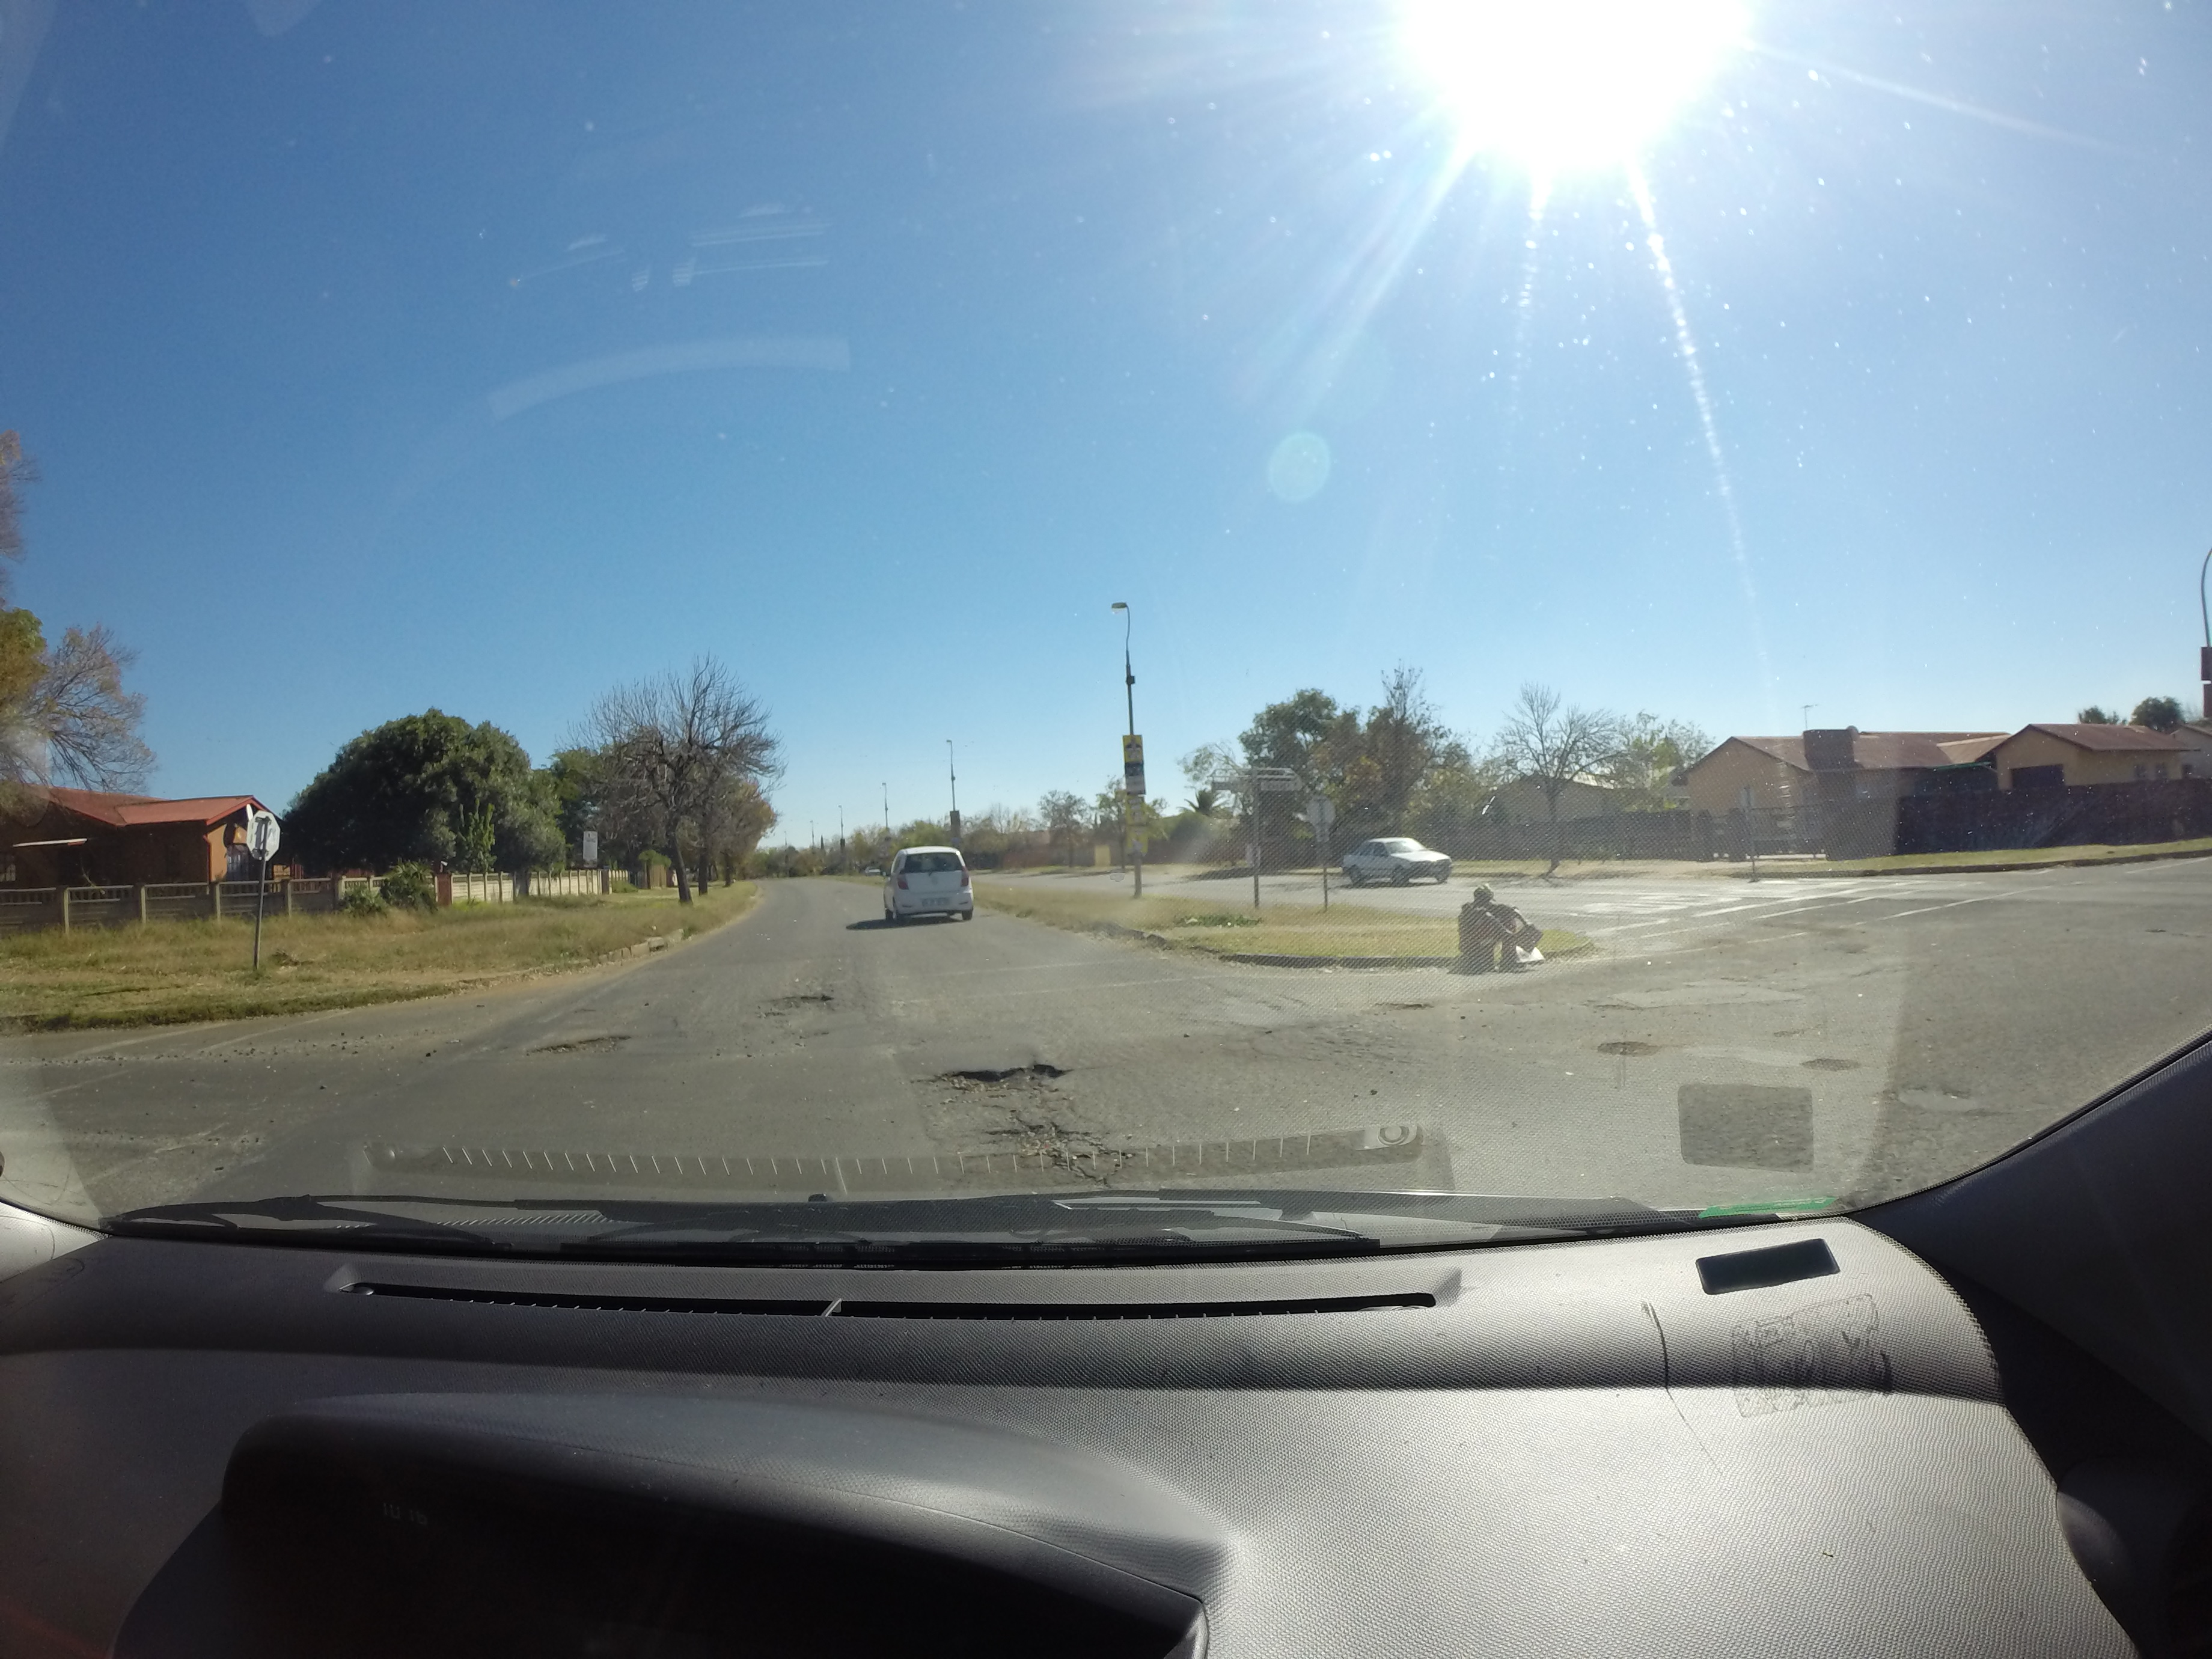pothole: (902, 1033, 1150, 1168)
